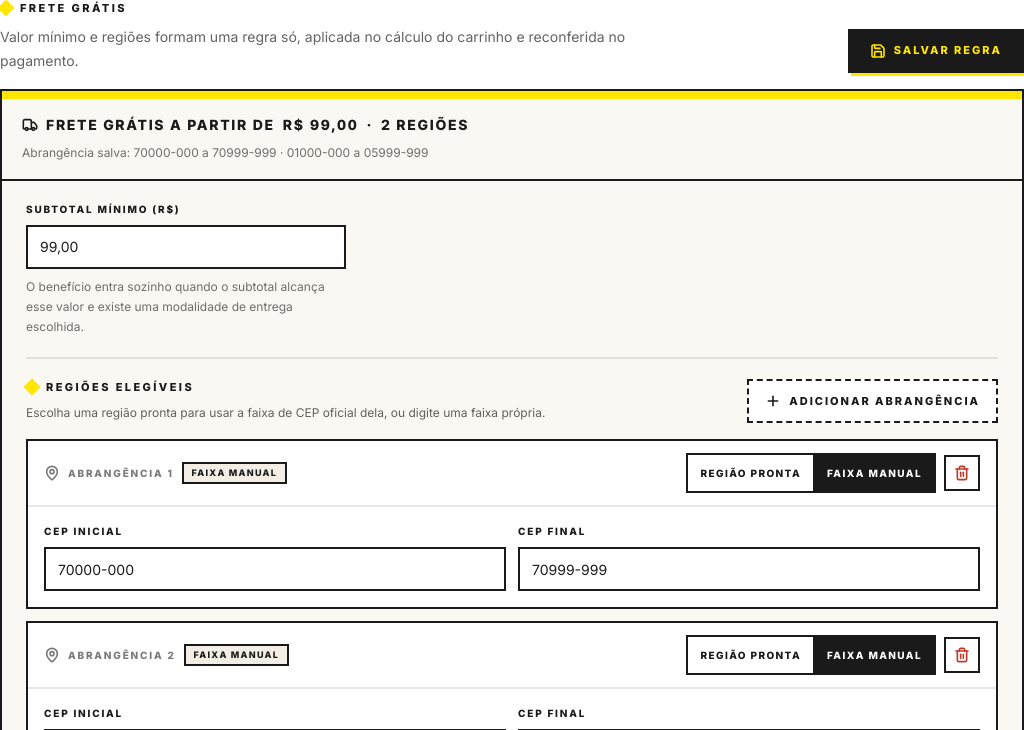
Scenario: FreeShippingPanel › remove uma abrangência da lista
Click the button named "remover abrangência 1": (962, 473) [944,455,980,491]
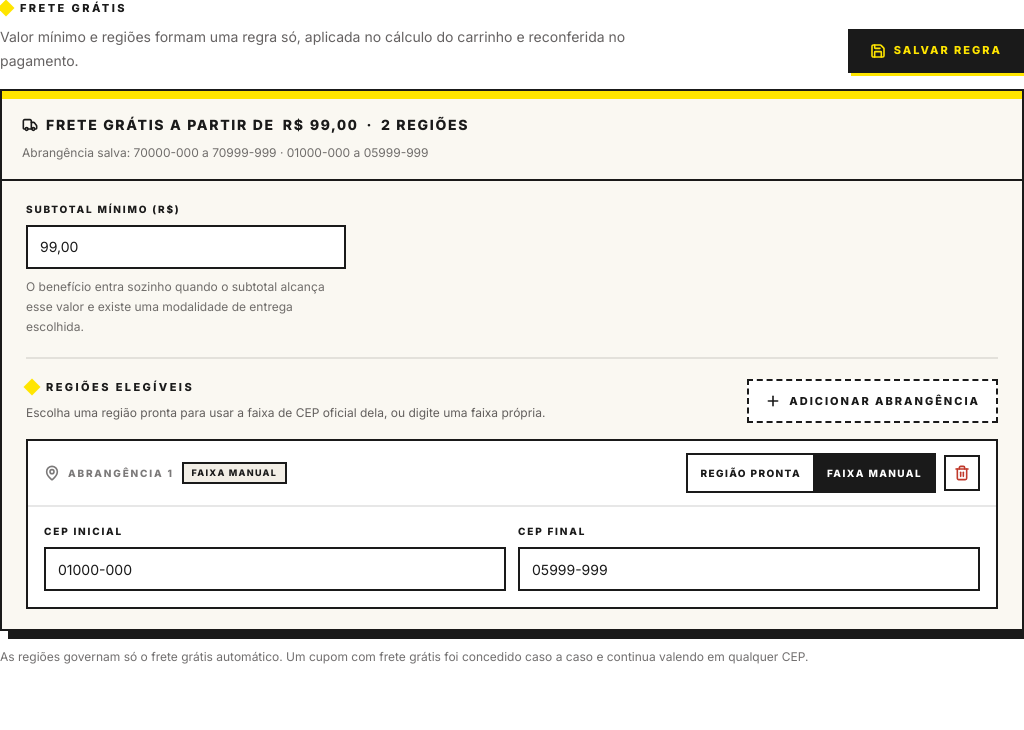
Expected: the number of list items is 1, [26,439,998,609]
